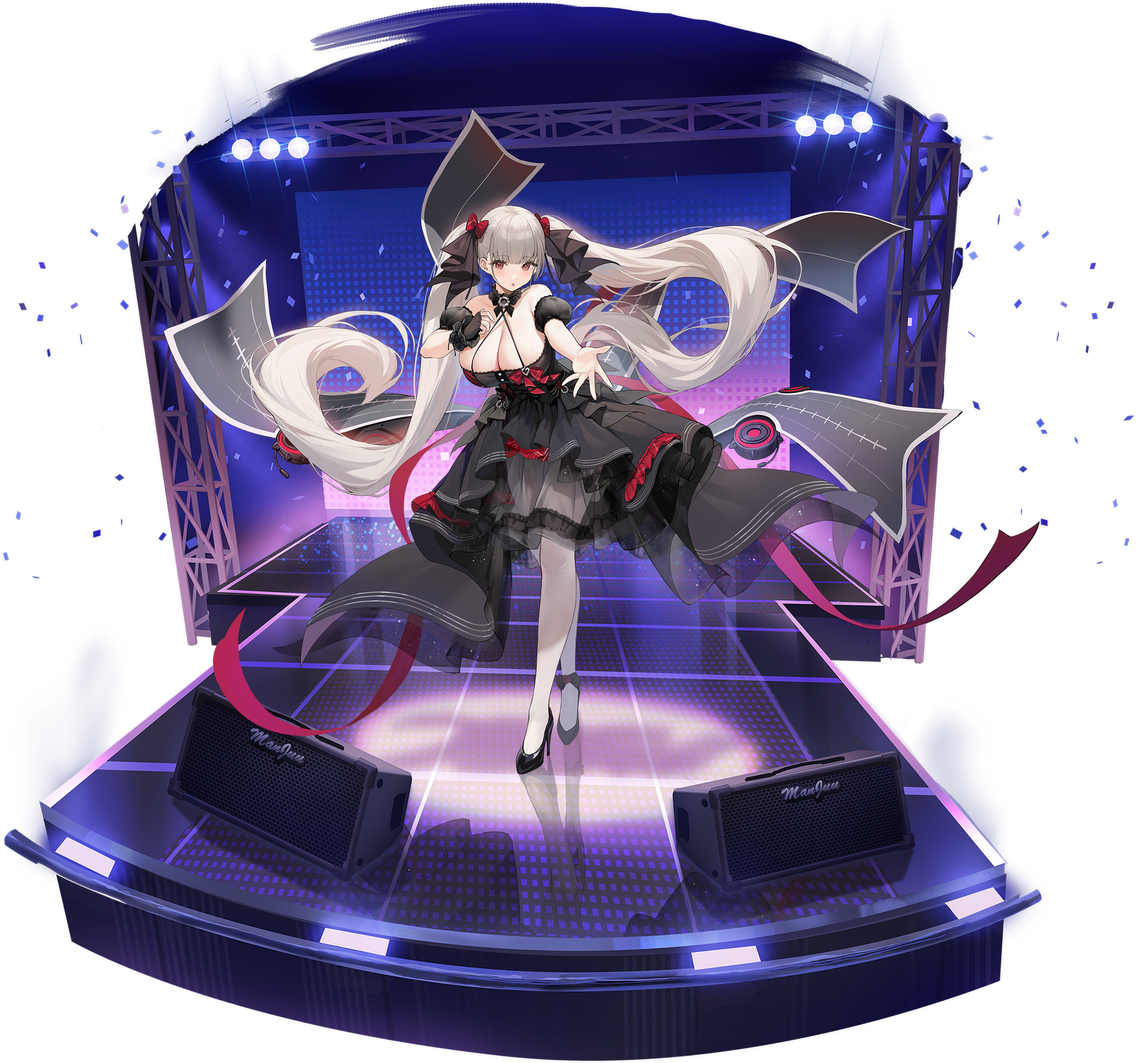person: (377, 161, 744, 905)
